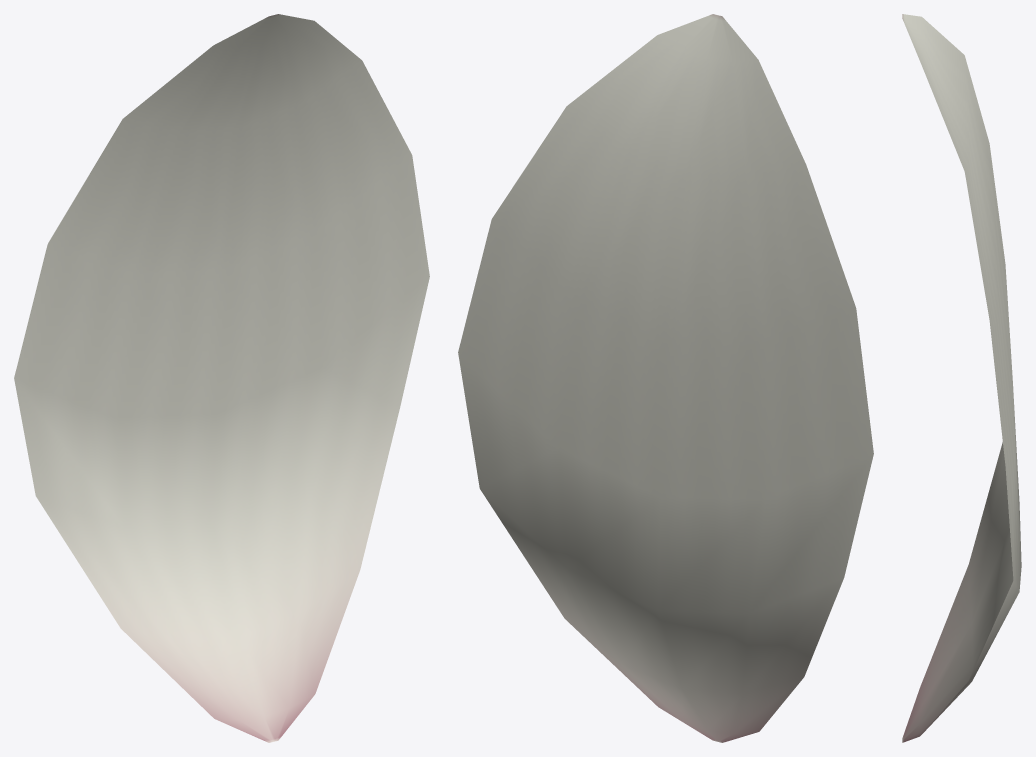
The model's file is magnolia-petal.glb.
3 renders of one model, left to right at view 1: azimuth 30°, elevation 25°; view 2: azimuth 150°, elevation 25°; view 3: azimuth 270°, elevation 25°, orthographic.
Parts seen in each view (by area): view 1: Magnolia_Petal; view 2: Magnolia_Petal; view 3: Magnolia_Petal.
Part boxes in pixels (x1,y1,x2,y2): Magnolia_Petal: (14, 14, 429, 742); Magnolia_Petal: (458, 14, 873, 742); Magnolia_Petal: (902, 14, 1021, 742).
Bounding box in the file's own units: 0.1143 × 0.1909 × 0.0285.
1 material, 1 textured.
